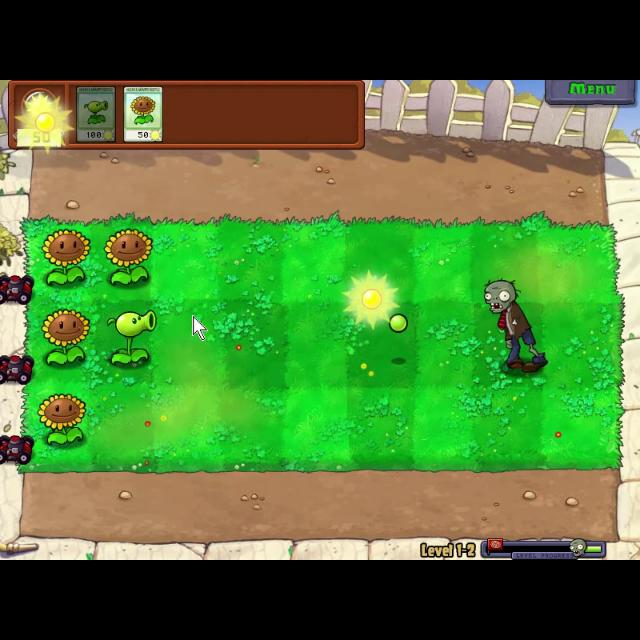Garden: (16, 215, 624, 473)
Menu Button: (544, 80, 636, 108)
Mower: (0, 434, 36, 468), (0, 272, 38, 304), (0, 351, 34, 385)
Peashooter: (74, 83, 118, 145)
Peashooter Seed: (104, 304, 154, 368)
Seed Panel: (7, 80, 369, 152)
Sun: (13, 88, 78, 160), (340, 268, 404, 330)
Sunflower: (122, 83, 164, 147)
Sunflower Seed: (99, 226, 155, 288), (39, 305, 91, 369), (32, 389, 86, 447), (41, 226, 91, 286)
Zombie: (481, 279, 554, 377)
